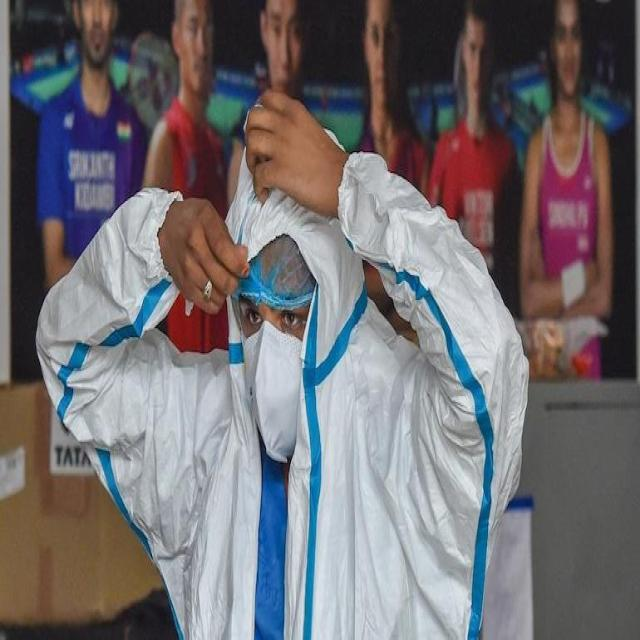Coverall: (29, 104, 535, 636)
Mask: (239, 321, 313, 455)
